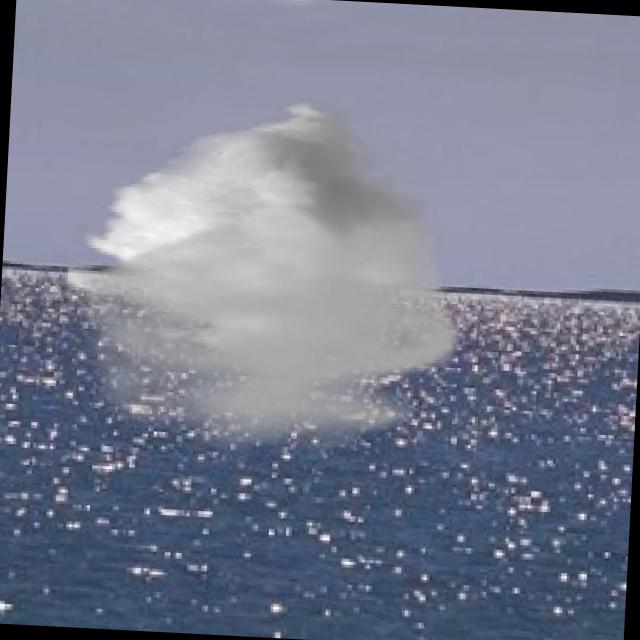Smoke: (59, 87, 480, 462)
